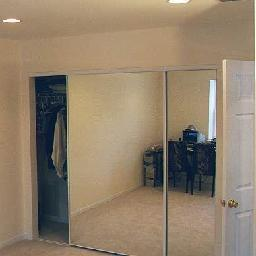Armario: (30, 72, 213, 255)
Puerta: (223, 60, 254, 254)
